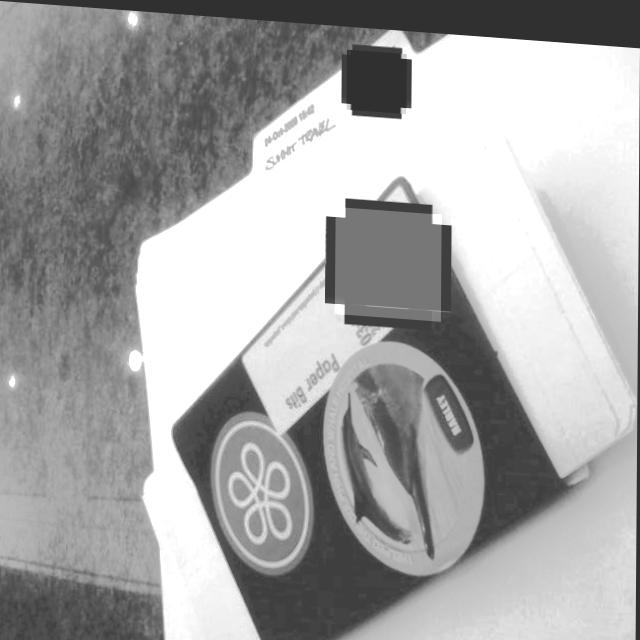qr_code: (335, 201, 442, 314), (347, 43, 407, 107)
